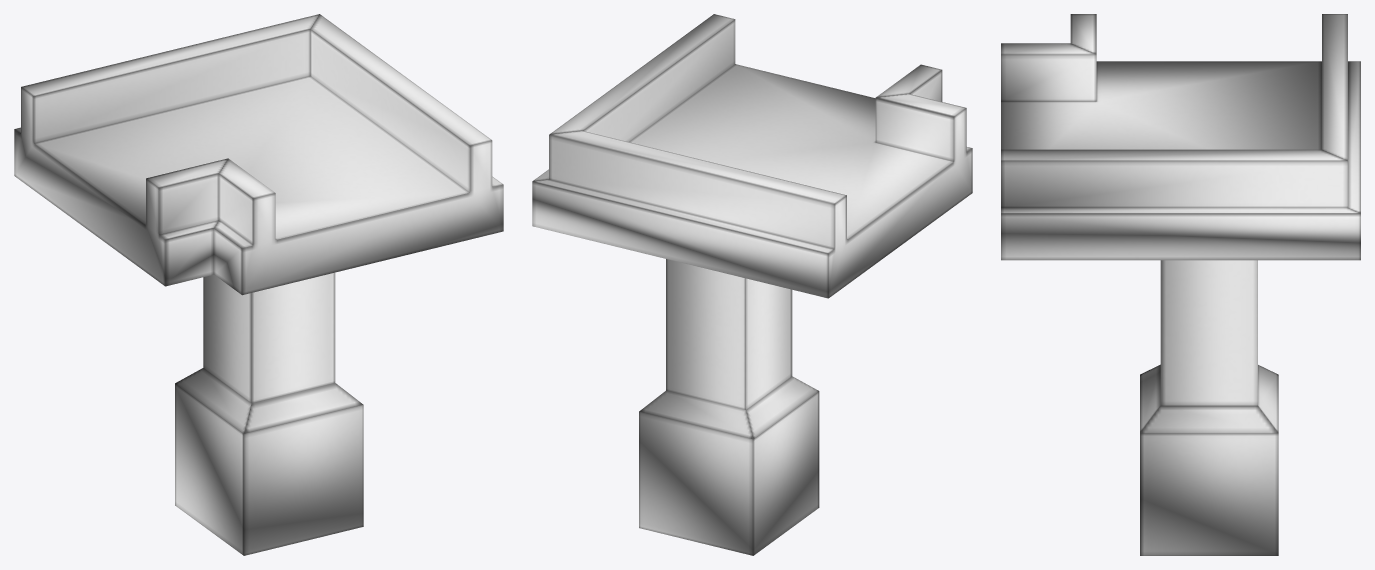
File: Bridge-02.fbx
The picture shows the model from 3 angles, left to right: view 1: azimuth 30°, elevation 25°; view 2: azimuth 150°, elevation 25°; view 3: azimuth 270°, elevation 25°; orthographic projection. The views are drawn at different scales.
Parts seen in each view (by area): view 1: Bridge-02; view 2: Bridge-02; view 3: Bridge-02.
Part boxes in pixels (box(x1,y1,x2,y2)): Bridge-02: box(14, 14, 503, 555); Bridge-02: box(532, 14, 972, 555); Bridge-02: box(1001, 14, 1360, 555).
Size of the model in its own units: 0.8643 by 1.12 by 0.8642.
